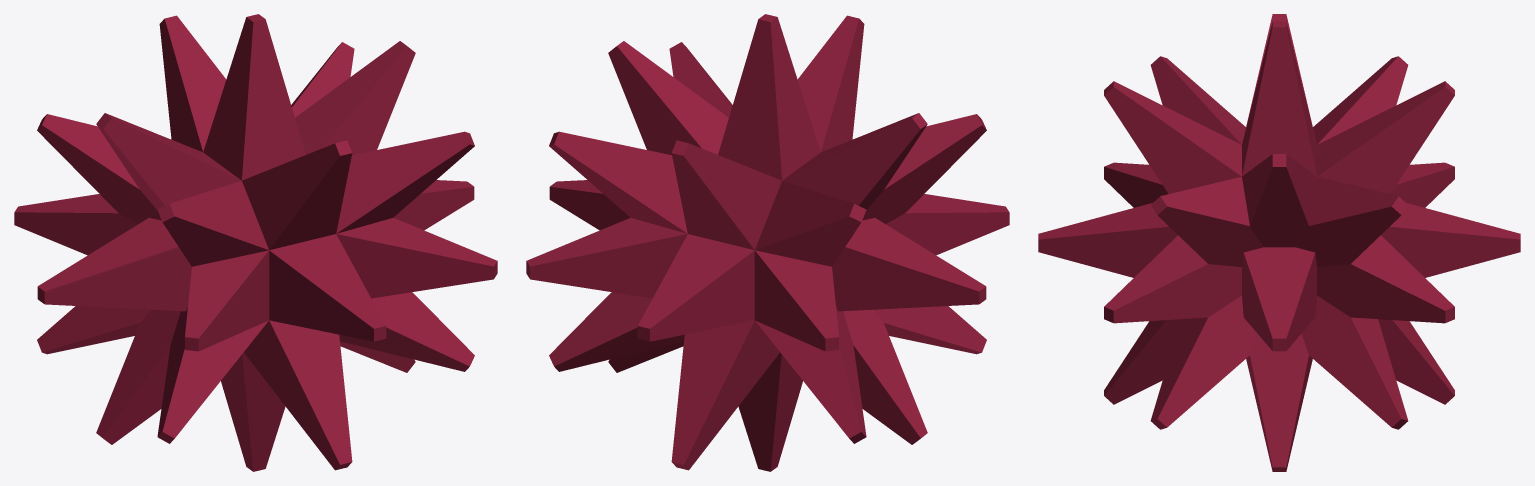
Rendered from enemy prefab.fbx.
3 views of the same model, side by side, from view 1: azimuth 30°, elevation 25°; view 2: azimuth 150°, elevation 25°; view 3: azimuth 270°, elevation 25° (orthographic). The views are drawn at different scales.
Parts seen in each view (by area): view 1: Cube.005; view 2: Cube.005; view 3: Cube.005.
Part boxes in pixels (x1=…): Cube.005: x1=14, y1=14, x2=497, y2=471; Cube.005: x1=526, y1=14, x2=1009, y2=471; Cube.005: x1=1038, y1=14, x2=1520, y2=471.
Size of the model in its own units: 148 by 148 by 148.
